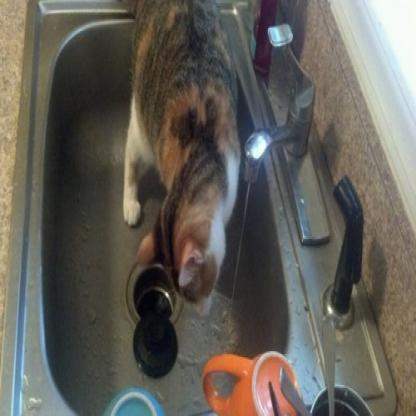Target: (112, 0, 243, 305)
